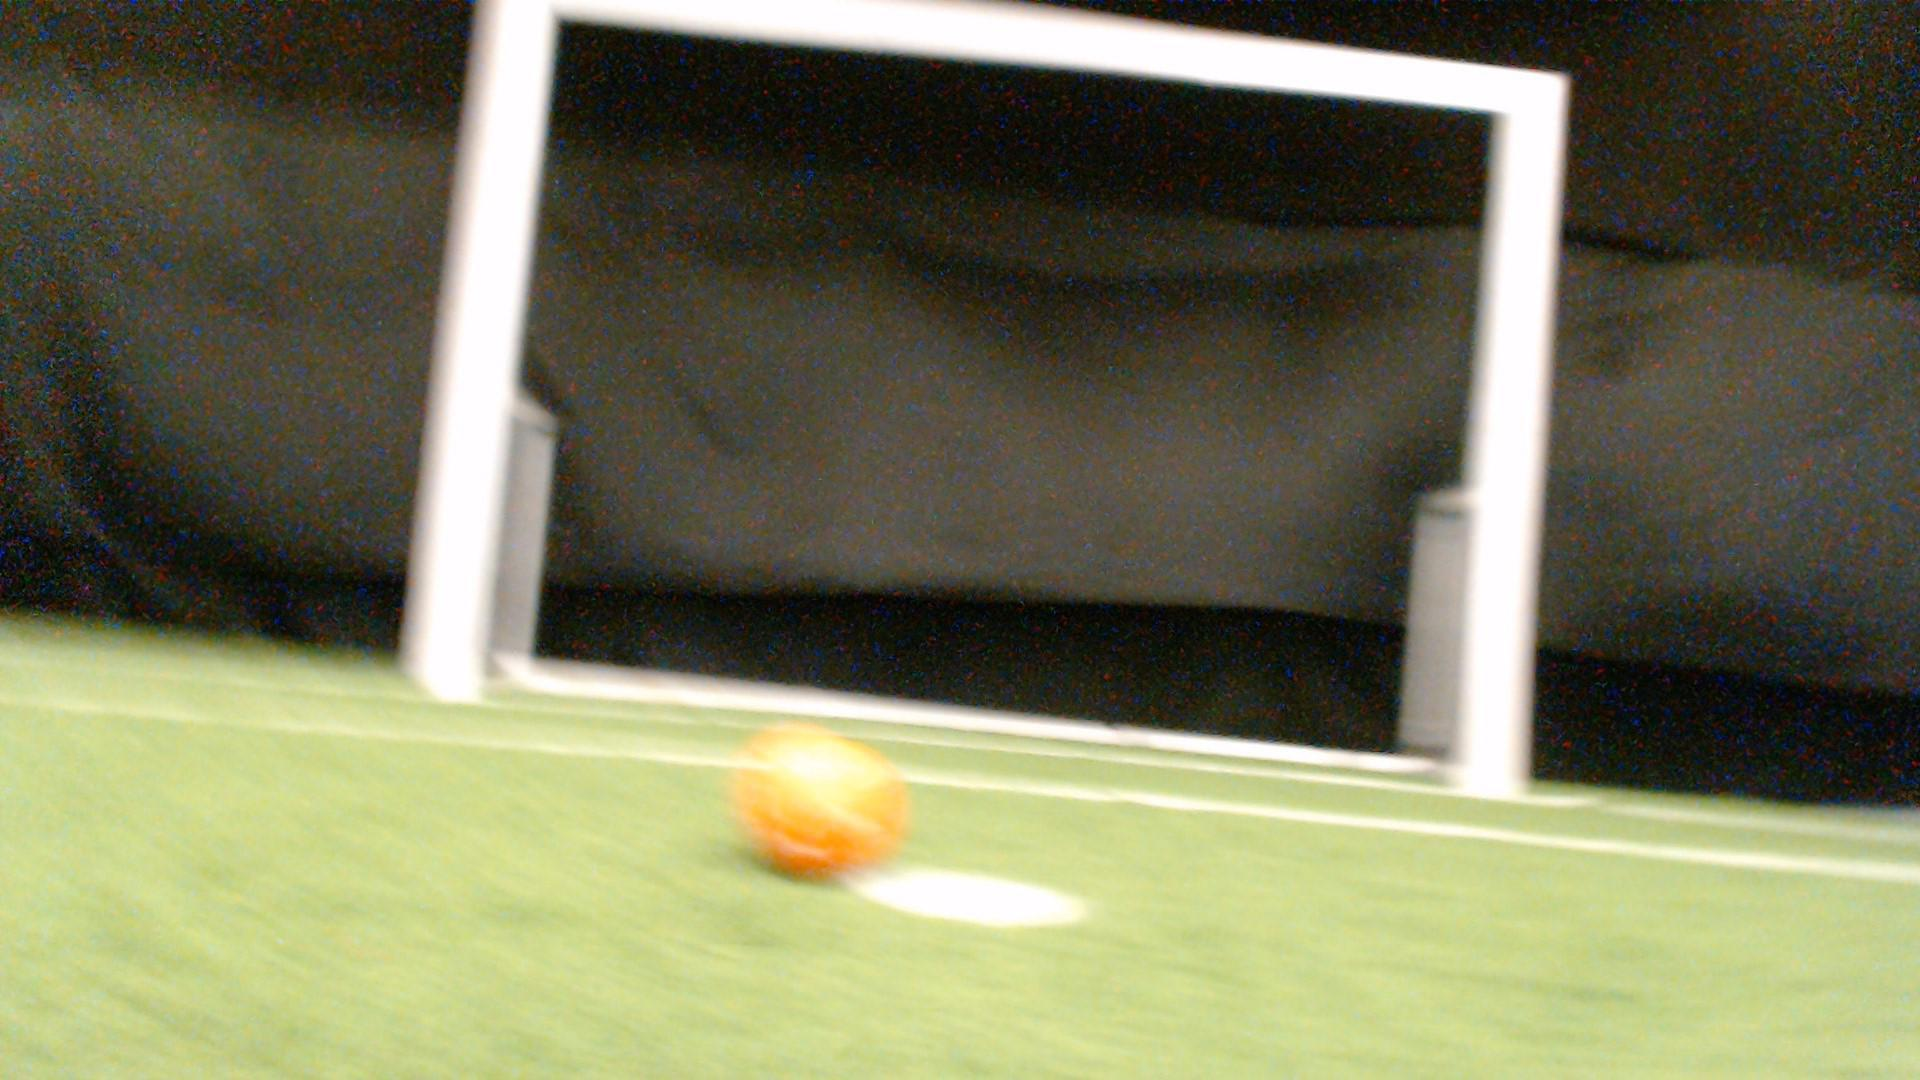bola: (715, 705, 930, 897)
